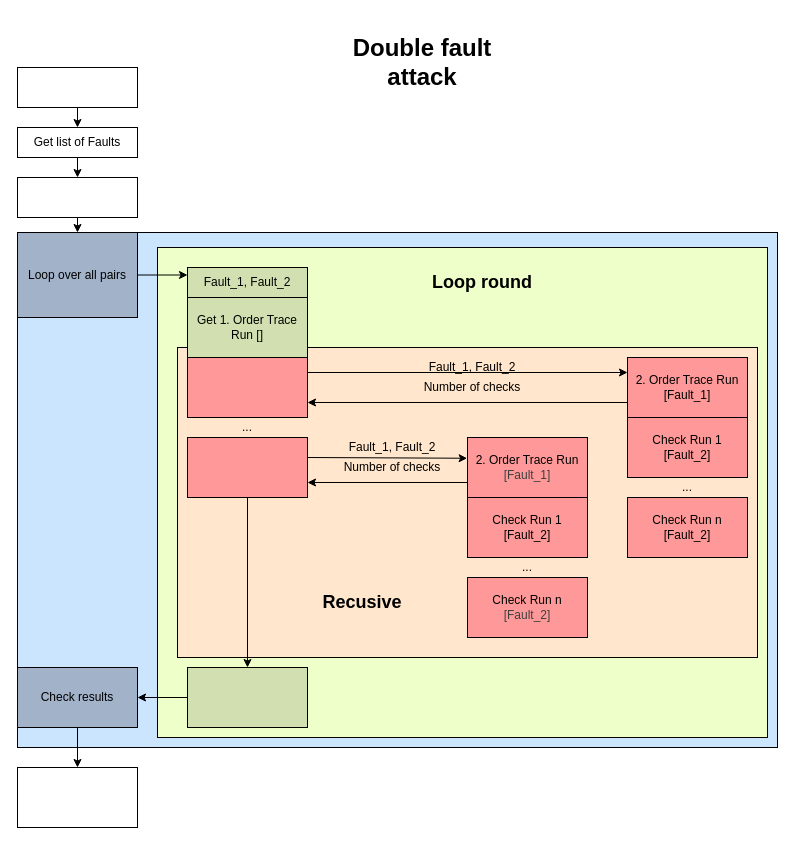
This 795x845 diagram has some shape labels left out. The shapes that lost their labels are listed below. From the top down, each one's centre as x and y in pixels, then its label:
[77,87]: Set 1. Order Trace Run []
[77,197]: Generate i_product of Faults
[247,387]: Check Run 1 [Fault_1]
[247,467]: Check Run n [Fault_1]
[247,697]: Join Results
[77,797]: Return results
